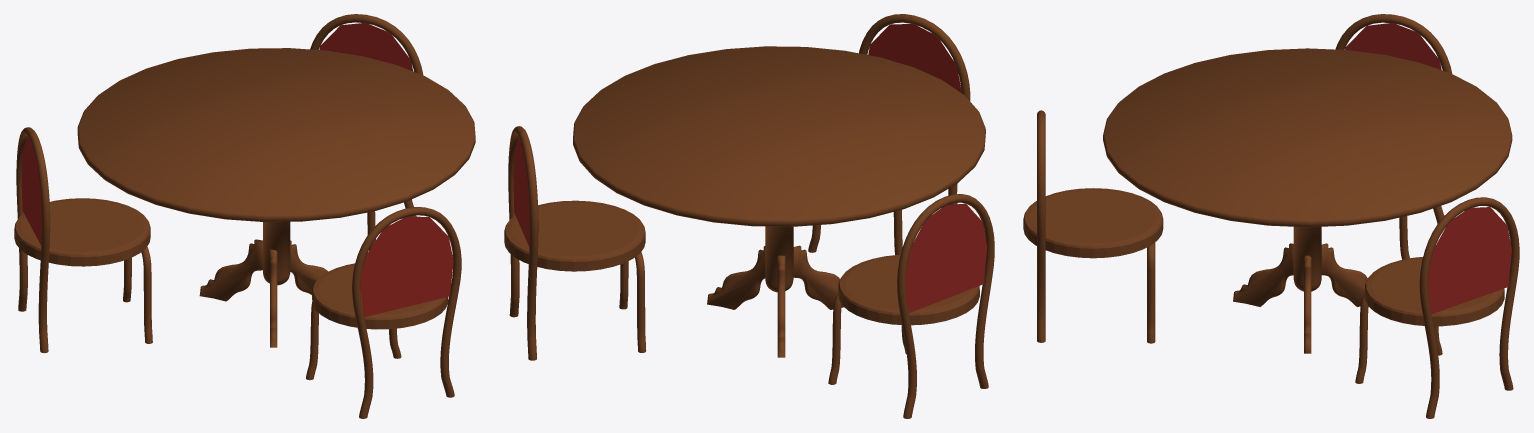
Rendered from table_chaise.glb.
3 views of the same model, side by side, from view 1: azimuth 30°, elevation 25°; view 2: azimuth 150°, elevation 25°; view 3: azimuth 270°, elevation 25° (orthographic). The views are drawn at different scales.
Parts seen in each view (by area): view 1: Table, Dossier chaise; view 2: Table, Dossier chaise; view 3: Table, Dossier chaise.
Part boxes in pixels (x1,y1,x2,y2): Table: [14, 14, 475, 418]; Dossier chaise: [21, 23, 453, 317]; Table: [504, 14, 994, 418]; Dossier chaise: [513, 24, 987, 312]; Table: [1023, 14, 1519, 418]; Dossier chaise: [1345, 23, 1511, 314].
Size of the model in its own units: 2.46 by 1.1 by 2.42.
